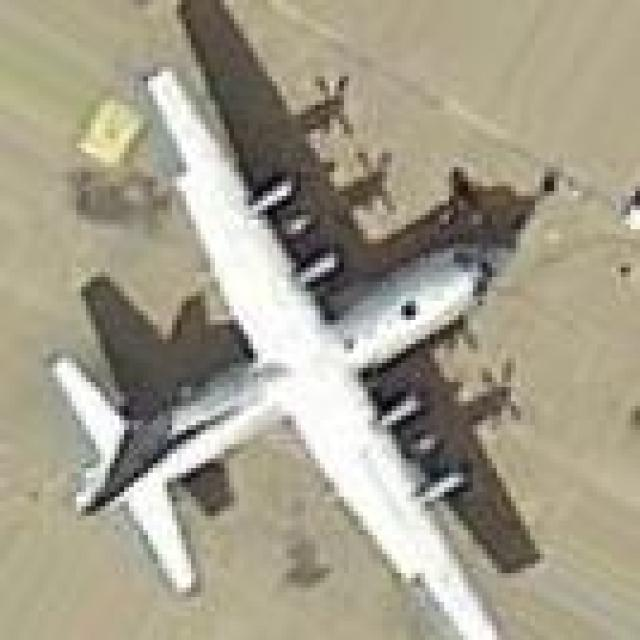C-130_TopDown: (38, 0, 549, 640)
